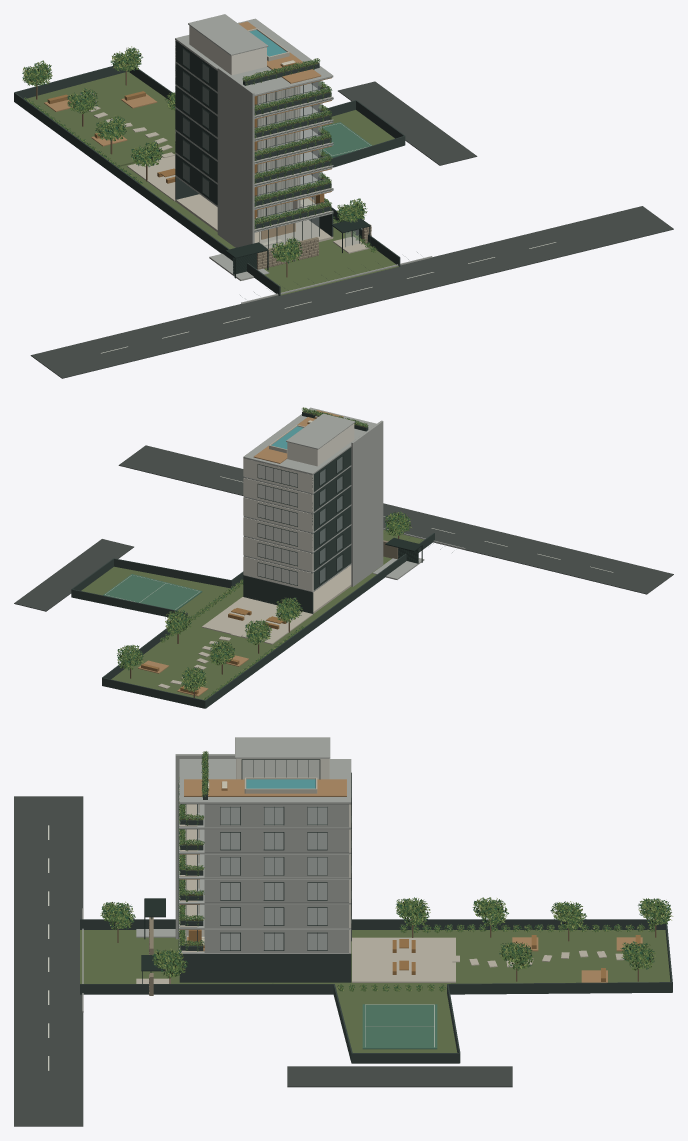
File: apogeu.glb
3 views of the same model, one above another, from view 1: azimuth 30°, elevation 25°; view 2: azimuth 150°, elevation 25°; view 3: azimuth 270°, elevation 25° (orthographic). The views are drawn at different scales.
Visible parts, largest first — view 1: site__Asfalto, structure__Concreto mineral, site__Revestimento grafite, site__Forracao rasteira, leisure__Forracao rasteira, roof__Concreto mineral, landscape__Folha 1, landscape__Folha 3, landscape__Folha 2, base__Piso mineral claro, landscape__Folha 0, roof__Paredes internas (+25 smaller); view 2: site__Asfalto, site__Revestimento grafite, leisure__Forracao rasteira, structure__Concreto mineral, site__Forracao rasteira, roof__Concreto mineral, leisure__Piso mineral claro, landscape__Folha 1, landscape__Folha 2, landscape__Folha 3, leisure__Quadra verde, landscape__Folha 0 (+24 smaller); view 3: site__Asfalto, site__Revestimento grafite, site__Forracao rasteira, leisure__Forracao rasteira, roof__Concreto mineral, leisure__Piso mineral claro, base__Revestimento grafite, floor_06__Concreto mineral, floor_05__Concreto mineral, floor_04__Concreto mineral, floor_03__Concreto mineral, floor_02__Concreto mineral (+21 smaller).
Boxes of the visible parts, bbox=[...] form: site__Asfalto: bbox=[30, 81, 673, 378]; structure__Concreto mineral: bbox=[217, 67, 254, 247]; site__Revestimento grafite: bbox=[14, 66, 417, 295]; site__Forracao rasteira: bbox=[26, 71, 398, 295]; leisure__Forracao rasteira: bbox=[27, 75, 175, 166]; roof__Concreto mineral: bbox=[175, 14, 333, 96]; landscape__Folha 1: bbox=[23, 47, 376, 262]; landscape__Folha 3: bbox=[22, 48, 377, 263]; landscape__Folha 2: bbox=[22, 46, 375, 261]; base__Piso mineral claro: bbox=[175, 194, 369, 253]; landscape__Folha 0: bbox=[23, 47, 377, 261]; roof__Paredes internas: bbox=[189, 25, 266, 75]; site__Asfalto: bbox=[14, 445, 673, 611]; site__Revestimento grafite: bbox=[71, 533, 452, 708]; leisure__Forracao rasteira: bbox=[113, 625, 277, 699]; structure__Concreto mineral: bbox=[351, 420, 383, 586]; site__Forracao rasteira: bbox=[81, 529, 423, 679]; roof__Concreto mineral: bbox=[243, 407, 376, 474]; leisure__Piso mineral claro: bbox=[158, 597, 312, 688]; landscape__Folha 1: bbox=[117, 512, 410, 699]; landscape__Folha 2: bbox=[117, 511, 411, 699]; landscape__Folha 3: bbox=[117, 511, 410, 699]; leisure__Quadra verde: bbox=[103, 574, 202, 610]; landscape__Folha 0: bbox=[117, 513, 410, 699]; site__Asfalto: bbox=[14, 796, 512, 1126]; site__Revestimento grafite: bbox=[80, 919, 672, 1063]; site__Forracao rasteira: bbox=[80, 930, 670, 1052]; leisure__Forracao rasteira: bbox=[460, 930, 659, 983]; roof__Concreto mineral: bbox=[179, 737, 351, 804]; leisure__Piso mineral claro: bbox=[352, 937, 634, 982]; base__Revestimento grafite: bbox=[179, 954, 351, 982]; floor_06__Concreto mineral: bbox=[179, 783, 351, 829]; floor_05__Concreto mineral: bbox=[179, 829, 351, 854]; floor_04__Concreto mineral: bbox=[179, 854, 351, 879]; floor_03__Concreto mineral: bbox=[179, 879, 351, 904]; floor_02__Concreto mineral: bbox=[179, 904, 351, 929].
Size of what is drawn, in the model's own units: 90 by 26.56 by 76.13.
